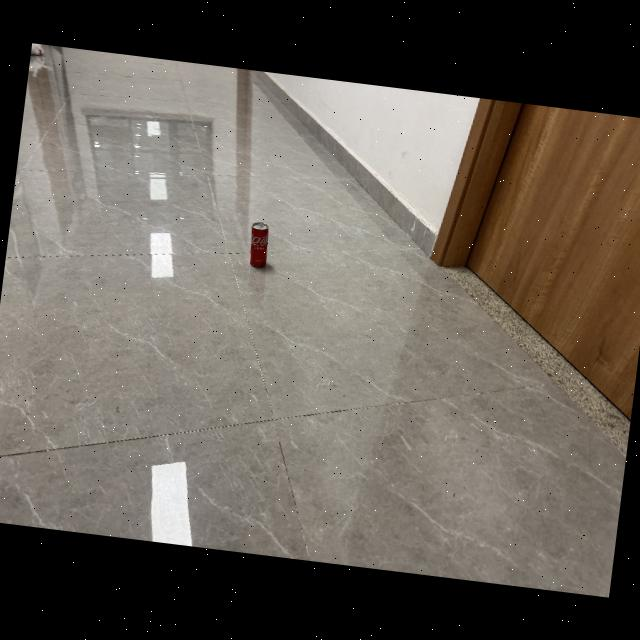Cola: (244, 218, 274, 272)
